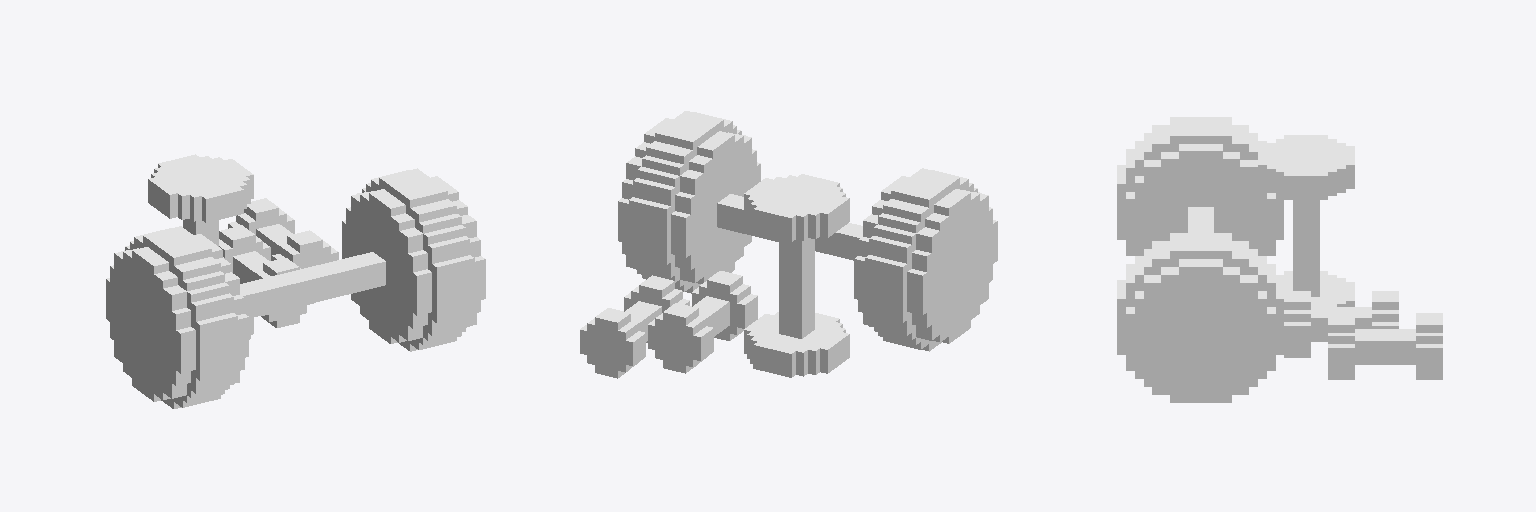
File: dumbells.obj
3 renders of one model, left to right at view 1: azimuth 30°, elevation 25°; view 2: azimuth 150°, elevation 25°; view 3: azimuth 270°, elevation 25°, orthographic.
Parts seen in each view (by area): view 1: dumbells; view 2: dumbells; view 3: dumbells.
Boxes of the visible parts, box(x1,y1,x2,y2) form: dumbells: box(106, 154, 485, 408); dumbells: box(580, 111, 997, 378); dumbells: box(1117, 117, 1442, 402).
Bounding box in the file's own units: 40 × 20 × 37.